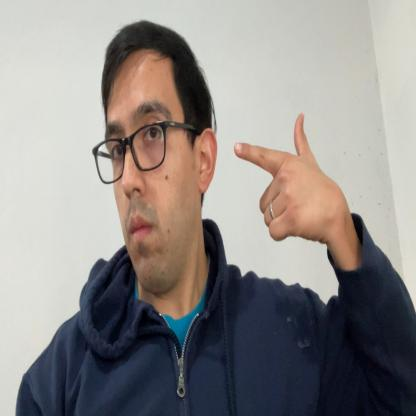G: (234, 111, 333, 244)
